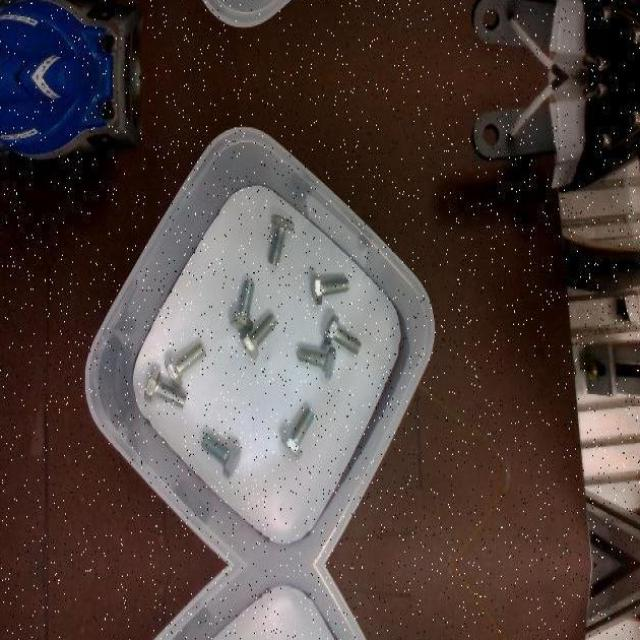screw: (166, 342, 206, 388), (201, 432, 241, 478), (281, 406, 316, 458), (144, 369, 187, 408), (242, 313, 278, 359), (324, 315, 363, 355), (268, 213, 295, 266), (230, 278, 256, 332), (299, 347, 336, 380), (312, 274, 349, 307)
